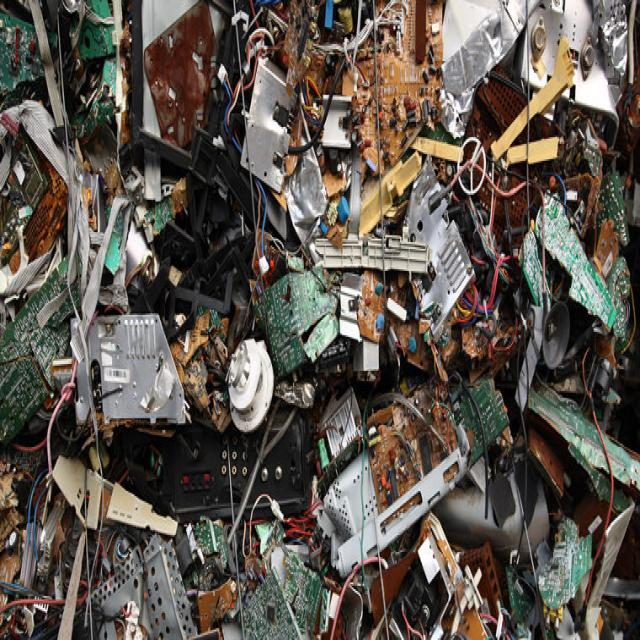heap: (10, 24, 633, 640)
